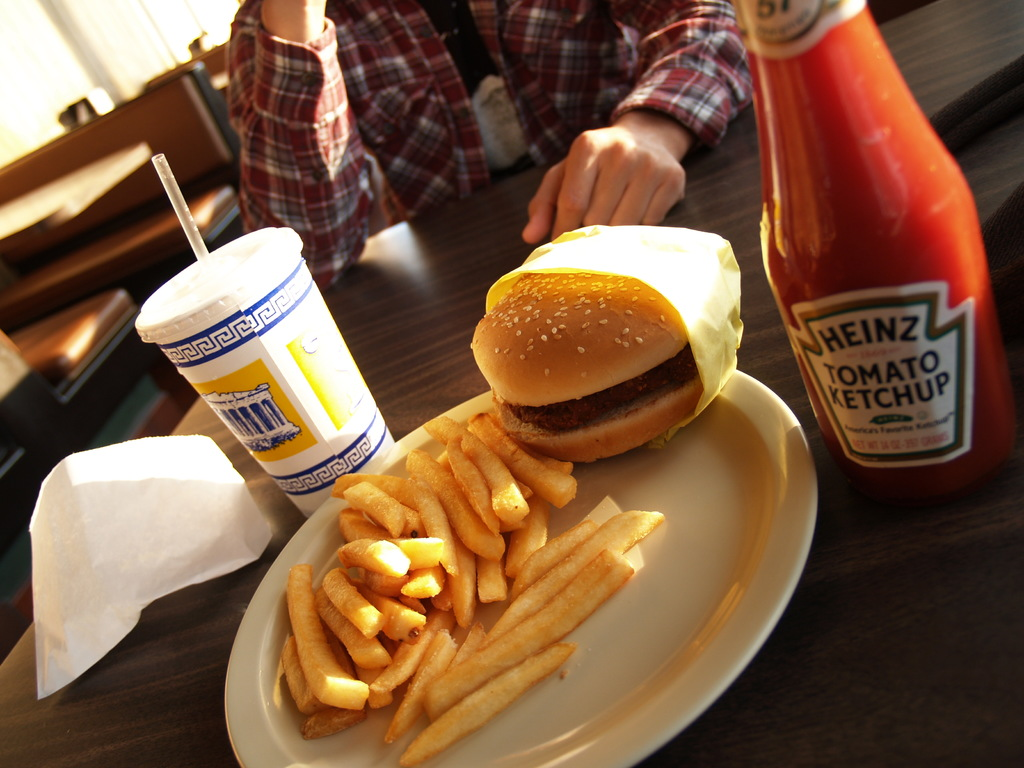French fries: (268, 394, 664, 767)
